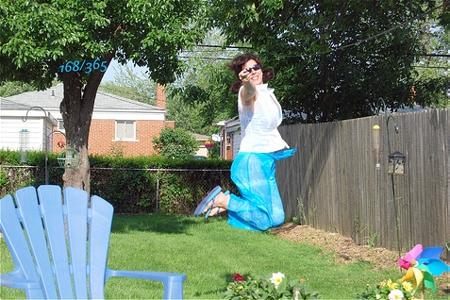person: (200, 54, 289, 231)
